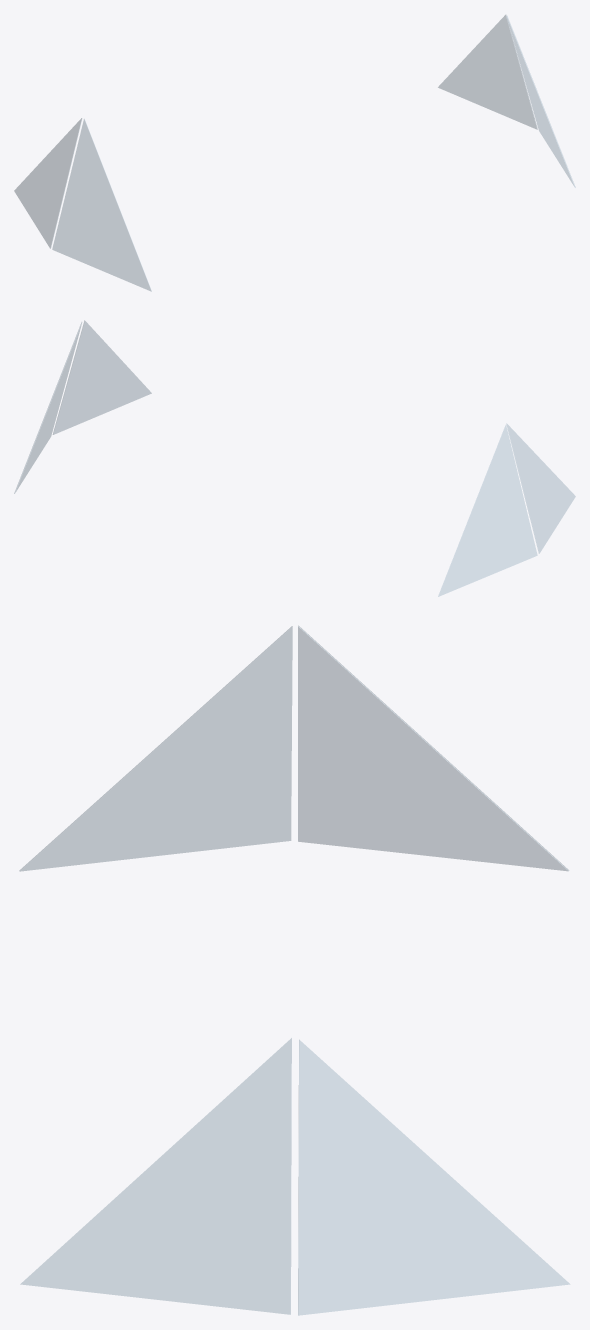
Rendered from Arena_Dome_Glass.glb.
3 views of the same model, one above another, from view 1: azimuth 30°, elevation 25°; view 2: azimuth 150°, elevation 25°; view 3: azimuth 270°, elevation 25° (orthographic). The views are drawn at different scales.
Parts seen in each view (by area): view 1: 4--Dome_Glass; view 2: 4--Dome_Glass; view 3: 4--Dome_Glass.
Part boxes in pixels (<box>): 4--Dome_Glass: <box>14,15,575,291</box>; 4--Dome_Glass: <box>14,320,575,596</box>; 4--Dome_Glass: <box>19,626,569,1315</box>.
Size of the model in its own units: 3552 by 860 by 1741.
